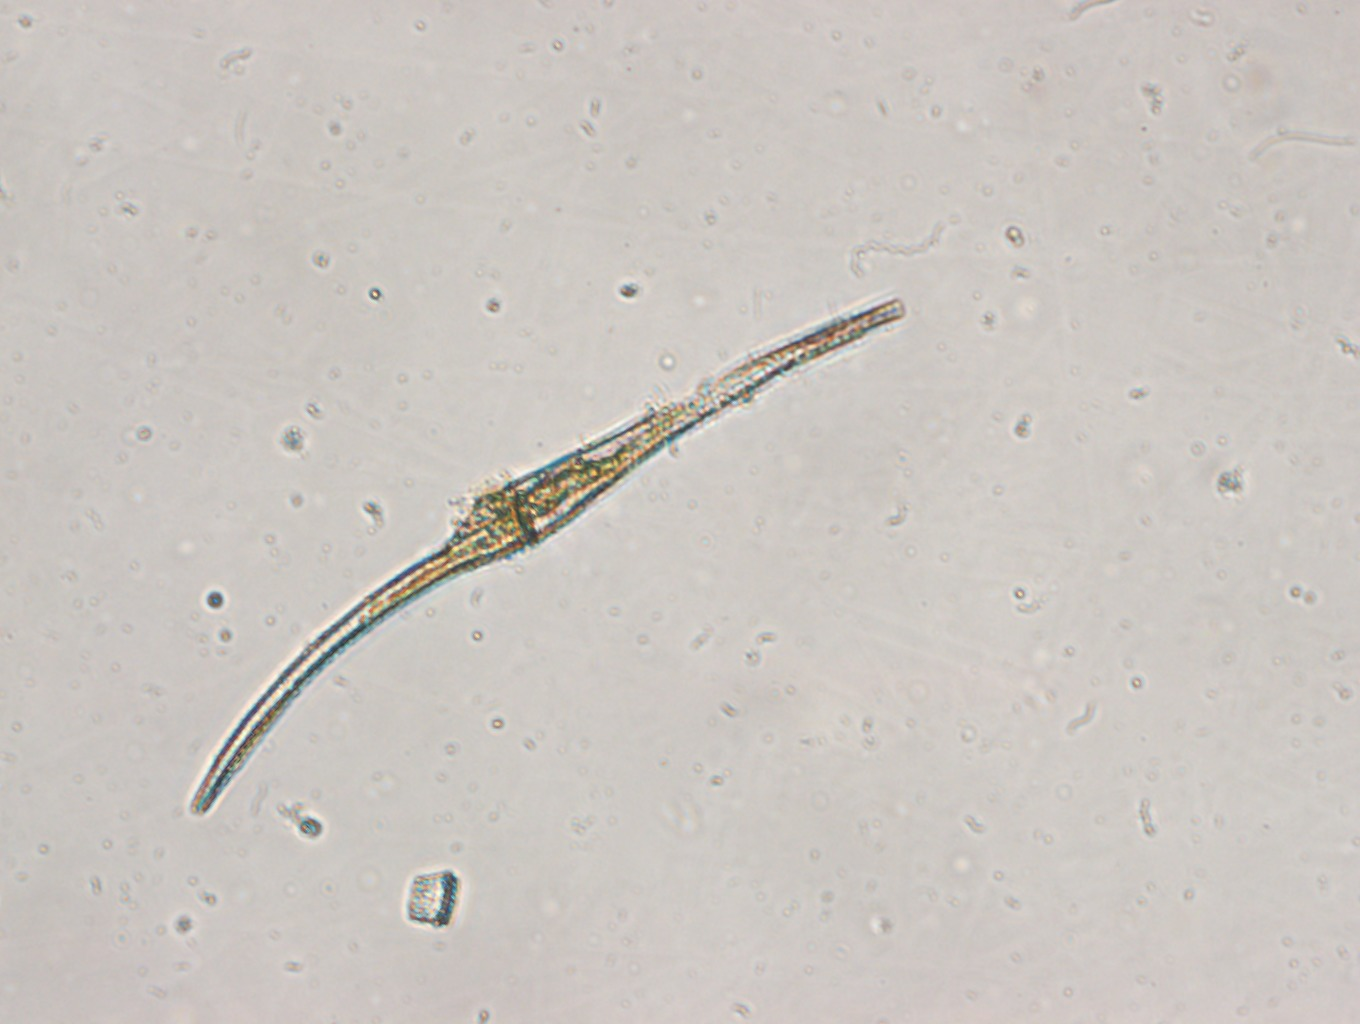ceratium fusus: (178, 291, 913, 825)
